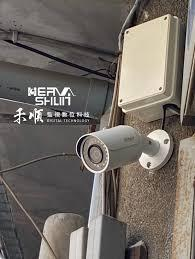Monitor: (69, 112, 179, 188)
